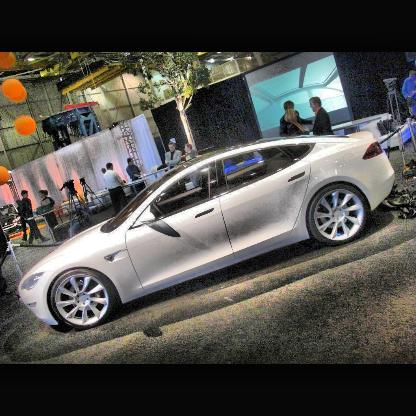Tesla Model S Sedan 2012: (19, 133, 396, 331)
